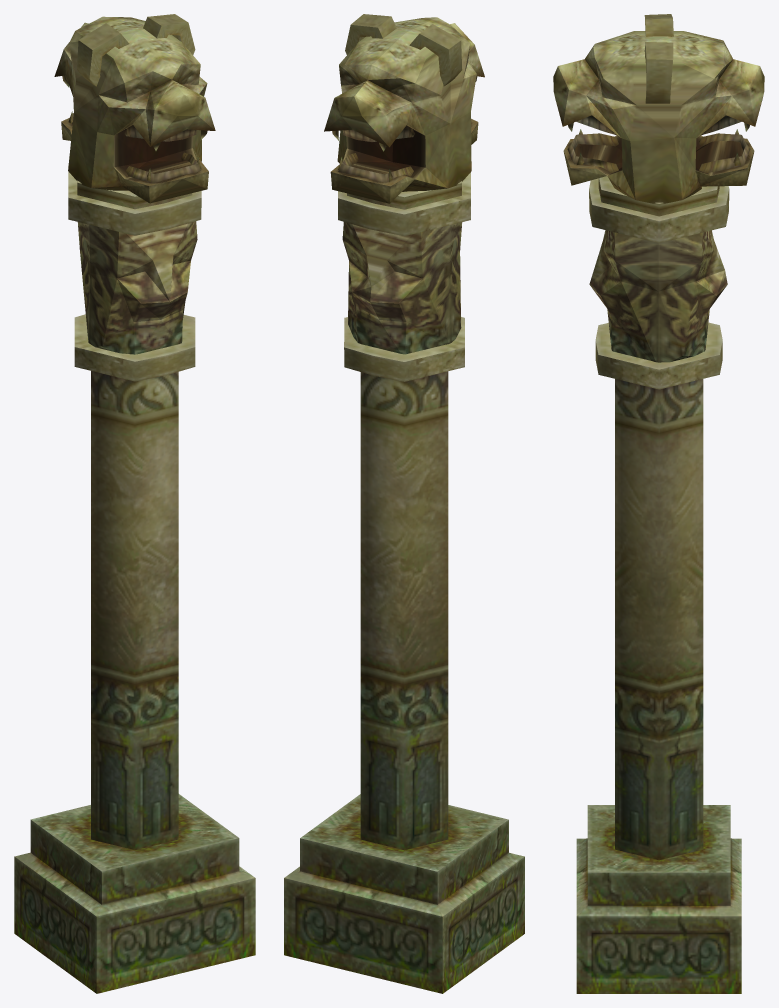
Rendered from GYzl_hlg_zw_tu_teng_zhu_001_lod0.FBX.
3 renders of one model, left to right at view 1: azimuth 30°, elevation 25°; view 2: azimuth 150°, elevation 25°; view 3: azimuth 270°, elevation 25°, orthographic.
Visible parts, largest first — view 1: zl_hlg_zw_tu_teng_zhu_001_lod0; view 2: zl_hlg_zw_tu_teng_zhu_001_lod0; view 3: zl_hlg_zw_tu_teng_zhu_001_lod0.
Boxes of the visible parts, box(x1,y1,x2,y2) form: zl_hlg_zw_tu_teng_zhu_001_lod0: box(14, 14, 255, 993); zl_hlg_zw_tu_teng_zhu_001_lod0: box(284, 14, 524, 993); zl_hlg_zw_tu_teng_zhu_001_lod0: box(553, 14, 764, 993).
Size of the model in its own units: 0.5647 by 3.13 by 0.648.
